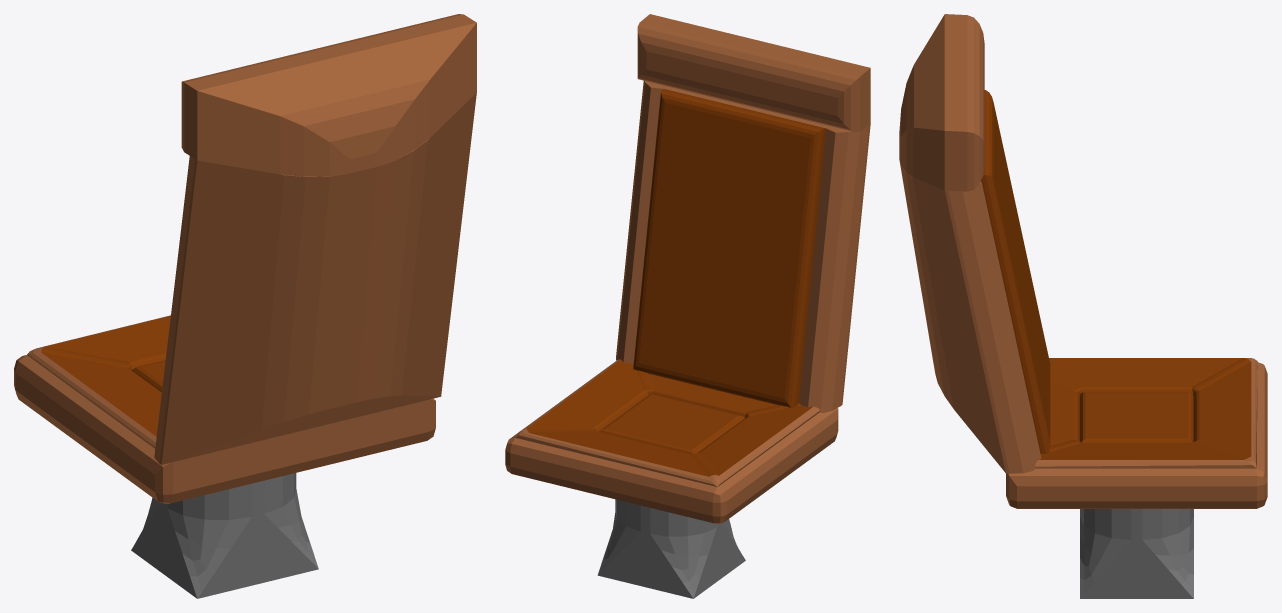
Rendered from Siden.fbx.
3 renders of one model, left to right at view 1: azimuth 30°, elevation 25°; view 2: azimuth 150°, elevation 25°; view 3: azimuth 270°, elevation 25°, orthographic. The views are drawn at different scales.
Visible parts, largest first — view 1: Куб.002; view 2: Куб.002; view 3: Куб.002.
Boxes of the visible parts, x1,y1,x2,y2 form: Куб.002: [14, 14, 476, 598]; Куб.002: [505, 14, 870, 598]; Куб.002: [899, 14, 1267, 598].
Bounding box in the file's own units: 150 × 300 × 200.
